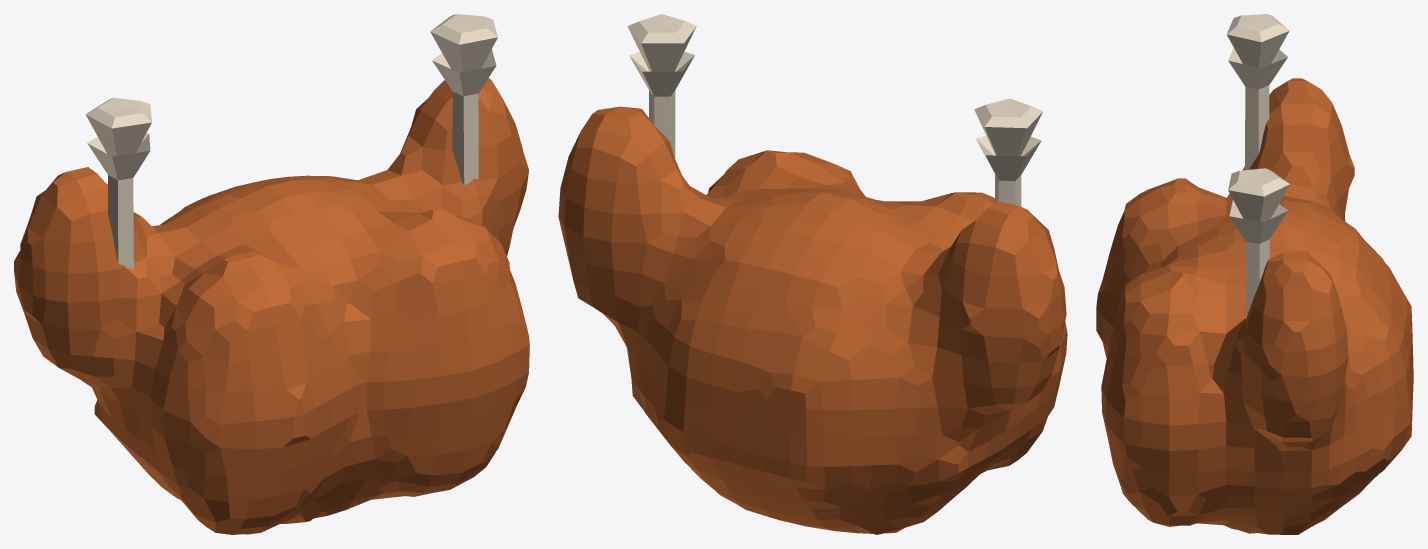
File: roast_chicken.glb
3 renders of one model, left to right at view 1: azimuth 30°, elevation 25°; view 2: azimuth 150°, elevation 25°; view 3: azimuth 270°, elevation 25°, orthographic. The views are drawn at different scales.
Visible parts, largest first — view 1: roast_chicken_meat, roast_chicken_bone_r, roast_chicken_bone_l; view 2: roast_chicken_meat, roast_chicken_bone_r, roast_chicken_bone_l; view 3: roast_chicken_meat, roast_chicken_bone_l, roast_chicken_bone_r.
Part boxes in pixels (x1=…): roast_chicken_meat: x1=14, y1=78, x2=529, y2=534; roast_chicken_bone_r: x1=430, y1=14, x2=497, y2=185; roast_chicken_bone_l: x1=85, y1=97, x2=151, y2=269; roast_chicken_meat: x1=558, y1=106, x2=1067, y2=534; roast_chicken_bone_r: x1=627, y1=14, x2=696, y2=158; roast_chicken_bone_l: x1=974, y1=98, x2=1042, y2=206; roast_chicken_meat: x1=1096, y1=78, x2=1413, y2=534; roast_chicken_bone_l: x1=1226, y1=14, x2=1289, y2=170; roast_chicken_bone_r: x1=1228, y1=168, x2=1289, y2=319.
Size of the model in its own units: 0.256 by 0.2251 by 0.1562.
Materials: 1 (1 with a texture image).
